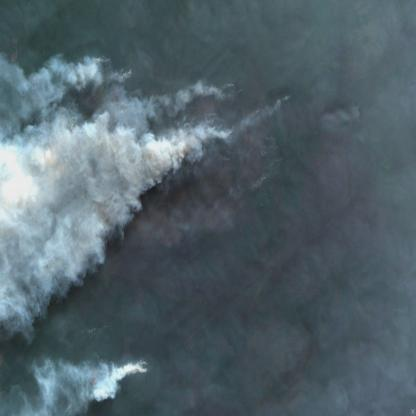fire: (27, 39, 301, 228), (132, 343, 161, 383)
